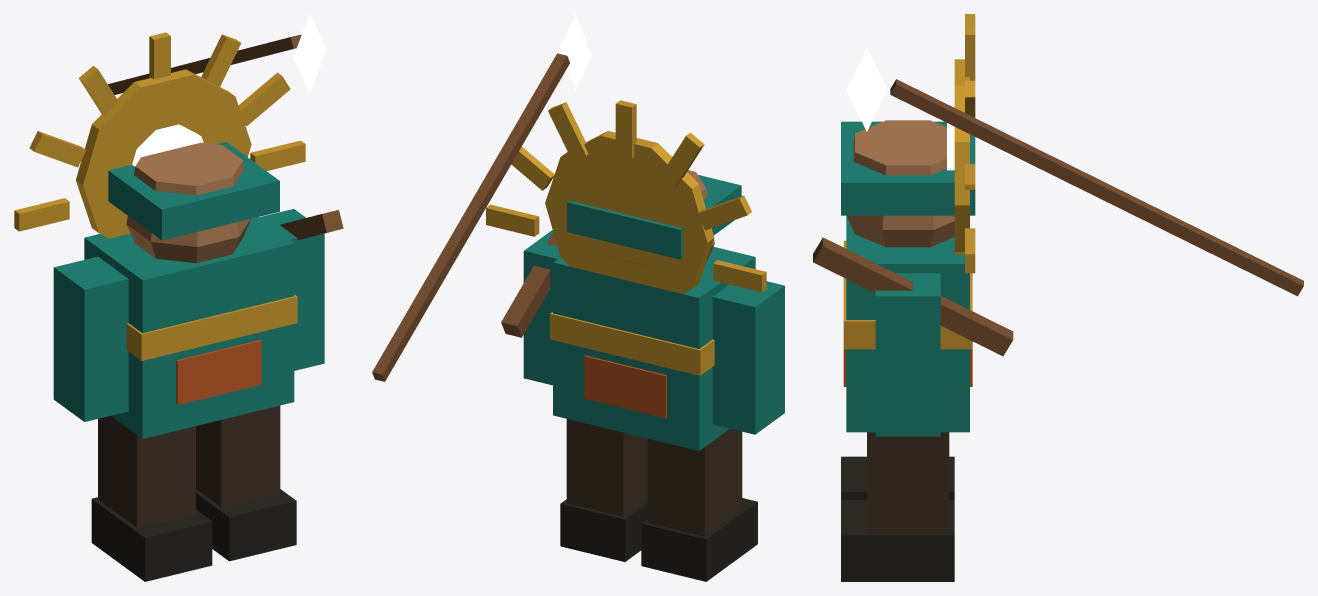
The model's file is unit_sniper.glb.
3 views of the same model, side by side, from view 1: azimuth 30°, elevation 25°; view 2: azimuth 150°, elevation 25°; view 3: azimuth 270°, elevation 25° (orthographic). The views are drawn at different scales.
Visible parts, largest first — view 1: body, leg_l, leg_r, arm_l, arm_r, glow; view 2: body, leg_l, arm_r, leg_r, arm_l, glow; view 3: body, arm_r, leg_r, glow, leg_l.
Part boxes in pixels (x1=…): body: x1=14, y1=32, x2=305, y2=438; leg_l: x1=91, y1=416, x2=212, y2=581; leg_r: x1=196, y1=405, x2=296, y2=561; arm_l: x1=53, y1=256, x2=128, y2=421; arm_r: x1=108, y1=34, x2=343, y2=370; glow: x1=132, y1=14, x2=326, y2=166; body: x1=486, y1=100, x2=766, y2=450; leg_l: x1=641, y1=428, x2=757, y2=581; arm_r: x1=372, y1=53, x2=569, y2=385; leg_r: x1=560, y1=419, x2=647, y2=561; arm_l: x1=712, y1=281, x2=784, y2=434; glow: x1=559, y1=14, x2=591, y2=89; body: x1=841, y1=14, x2=975, y2=432; arm_r: x1=813, y1=79, x2=1303, y2=436; leg_r: x1=841, y1=432, x2=954, y2=581; glow: x1=846, y1=48, x2=954, y2=170; leg_l: x1=841, y1=456, x2=954, y2=500.
Bounding box in the file's own units: 0.68 × 1.17 × 0.9512.
